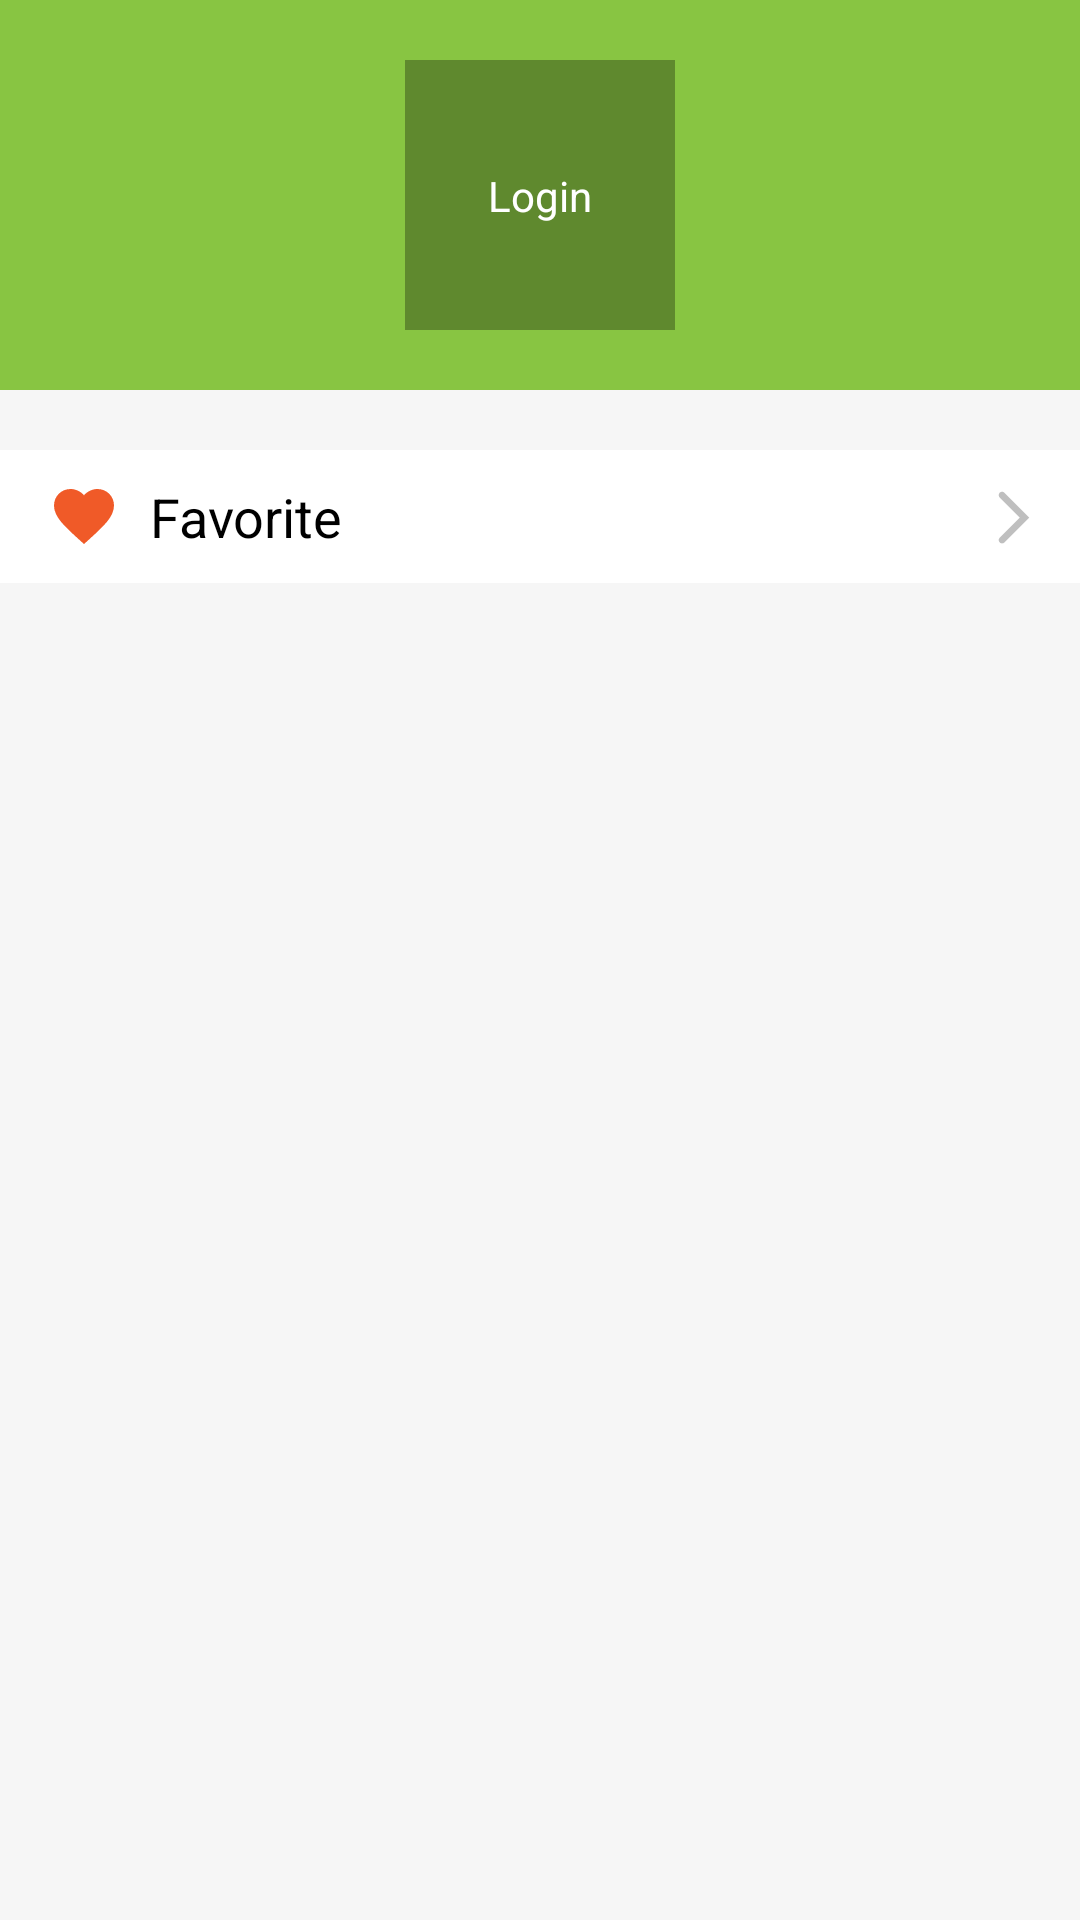

Where icons sit on this 1080px×1920px app screen, as [left=x1, top=y1, right=x2, bottom=y2]:
arrow right: [left=999, top=492, right=1029, bottom=543]
